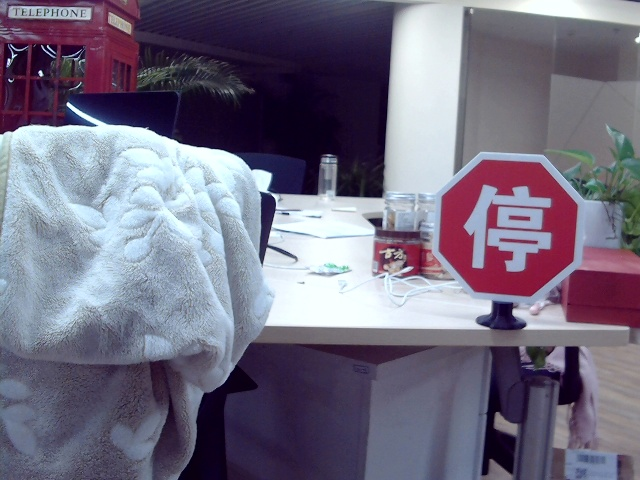stop: (466, 179, 551, 274)
